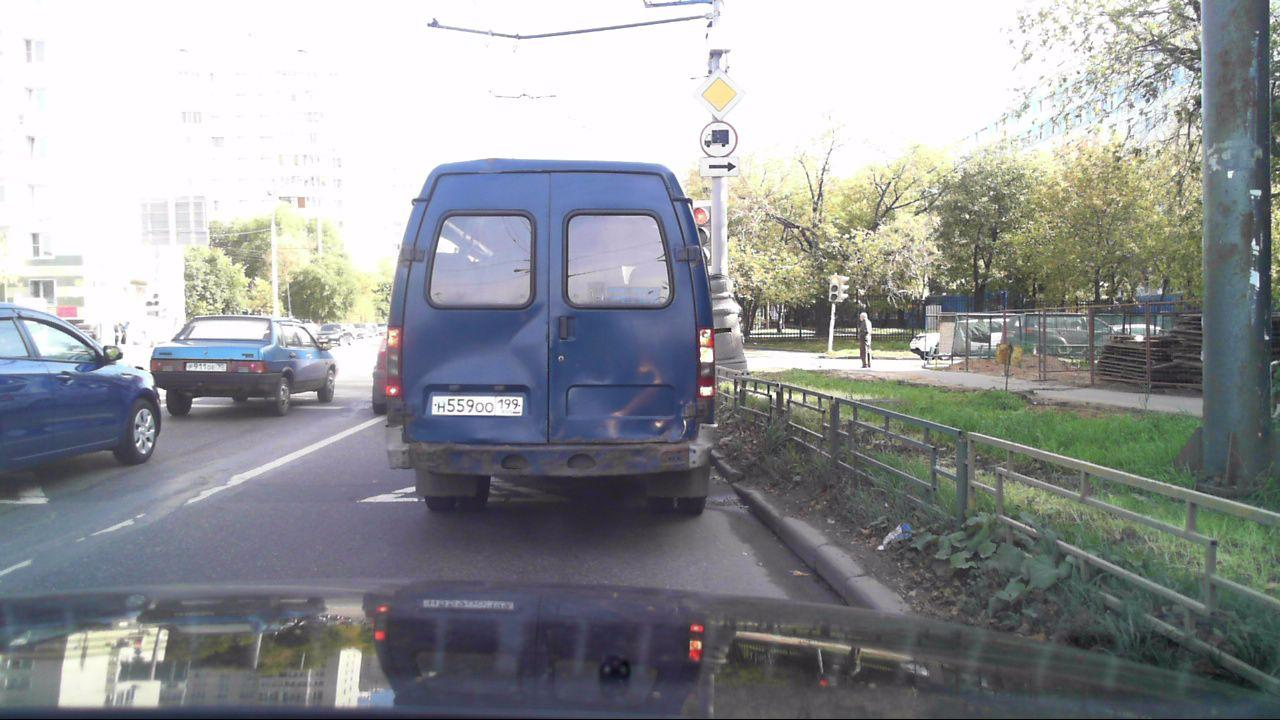2_1: (694, 67, 748, 121)
3_4: (699, 121, 740, 157)
8_3_1: (699, 157, 738, 177)
